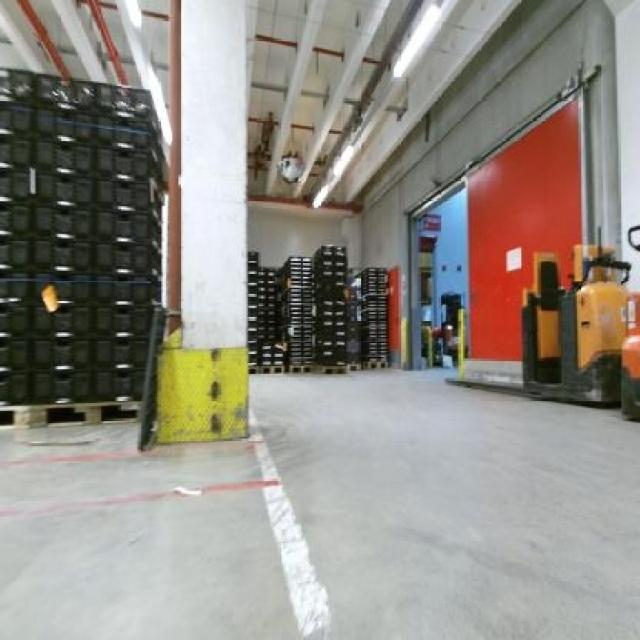floor: (0, 369, 637, 637)
pallets: (0, 68, 162, 403), (246, 243, 385, 369)
